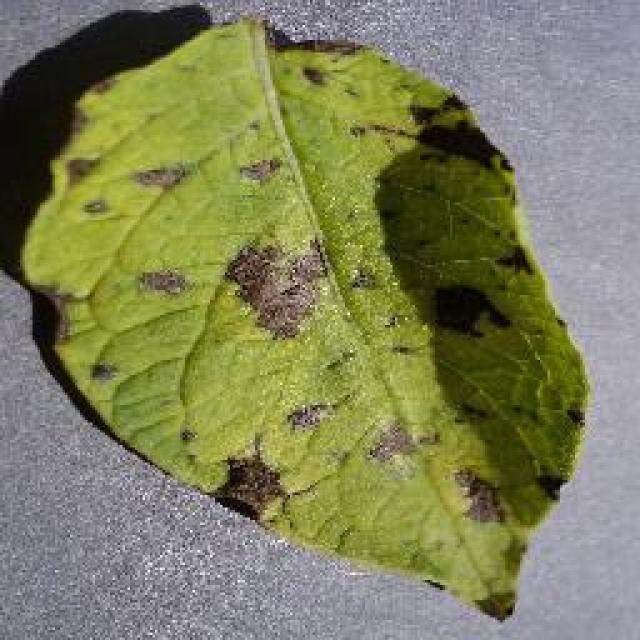Potato___Early_blight: (15, 17, 590, 624)
